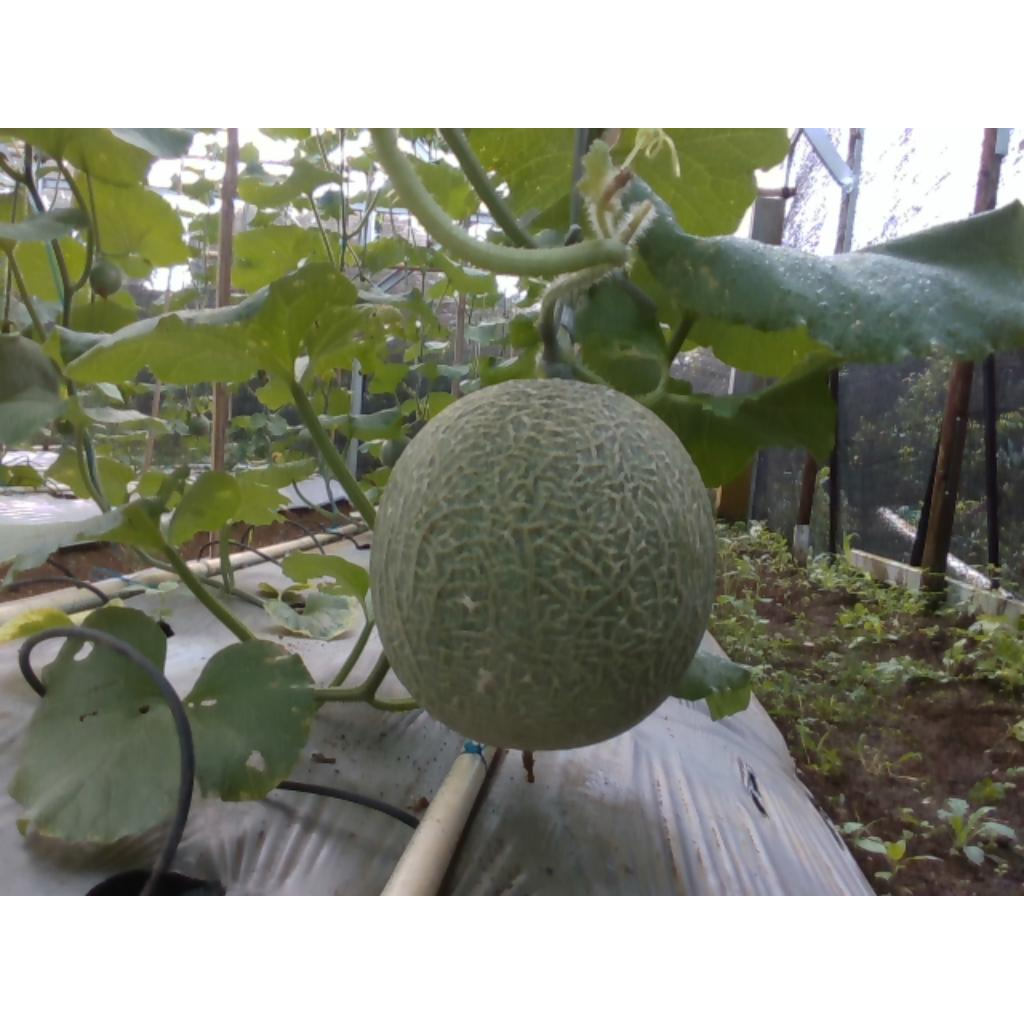melon: (371, 379, 715, 751)
